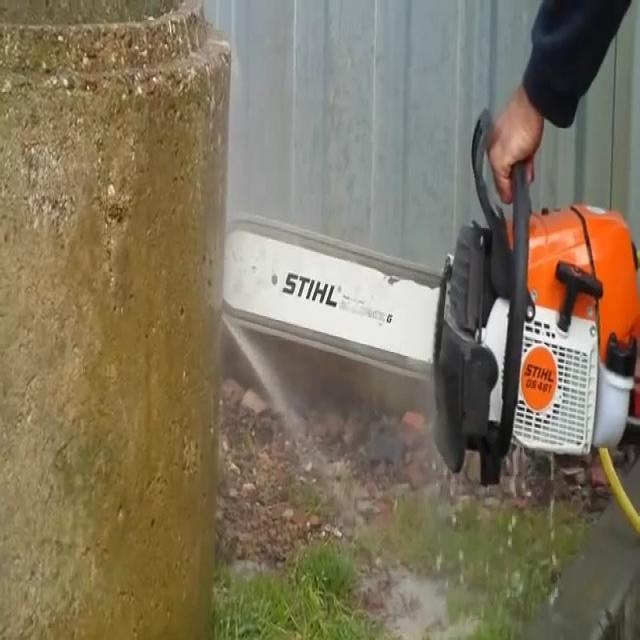Chainsaw: (195, 87, 640, 500)
